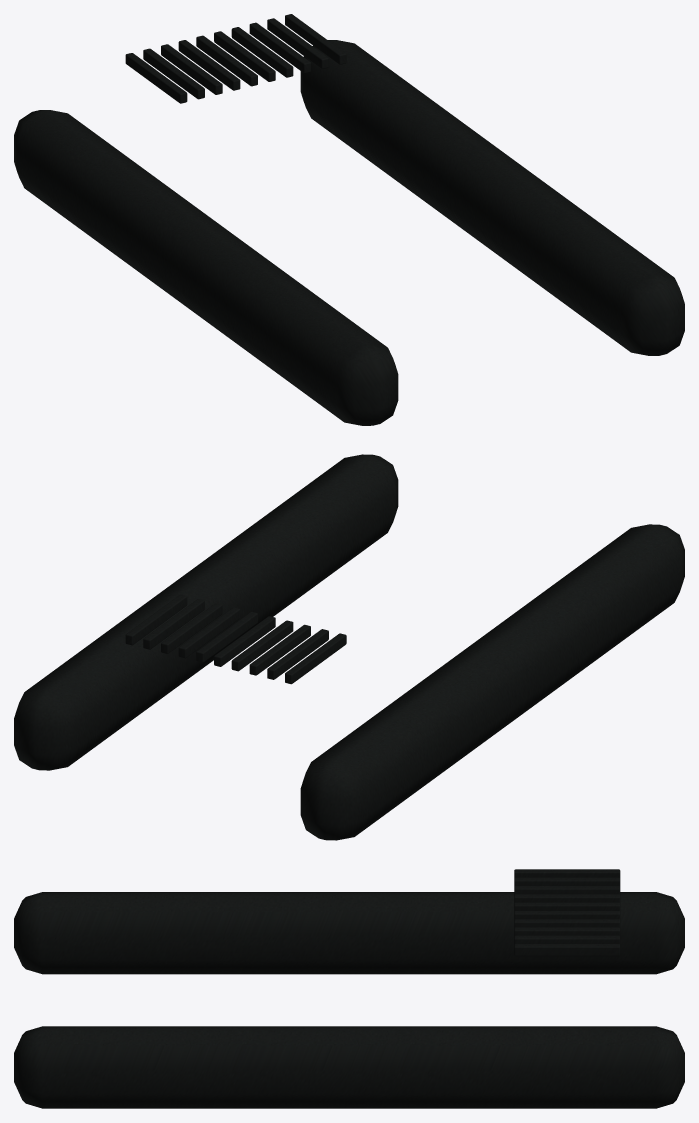
3 renders of one model, top to bottom at view 1: azimuth 30°, elevation 25°; view 2: azimuth 150°, elevation 25°; view 3: azimuth 270°, elevation 25°, orthographic. The views are drawn at different scales.
Bounding box in the file's own units: 3.25 × 1.23 × 5.7.
Materials: 1 (1 with a texture image).
